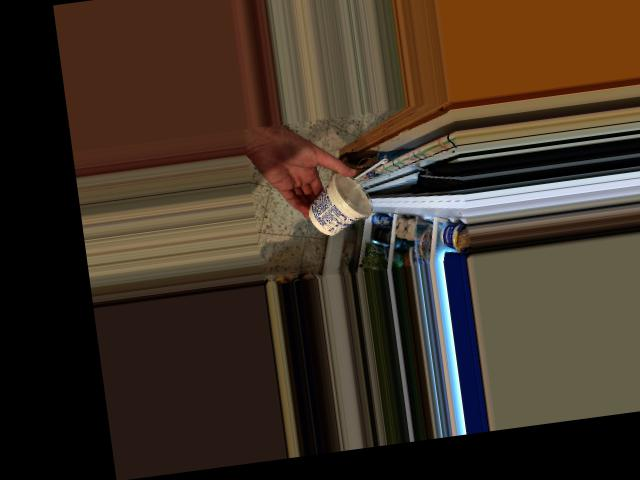cotage: (310, 173, 375, 234)
